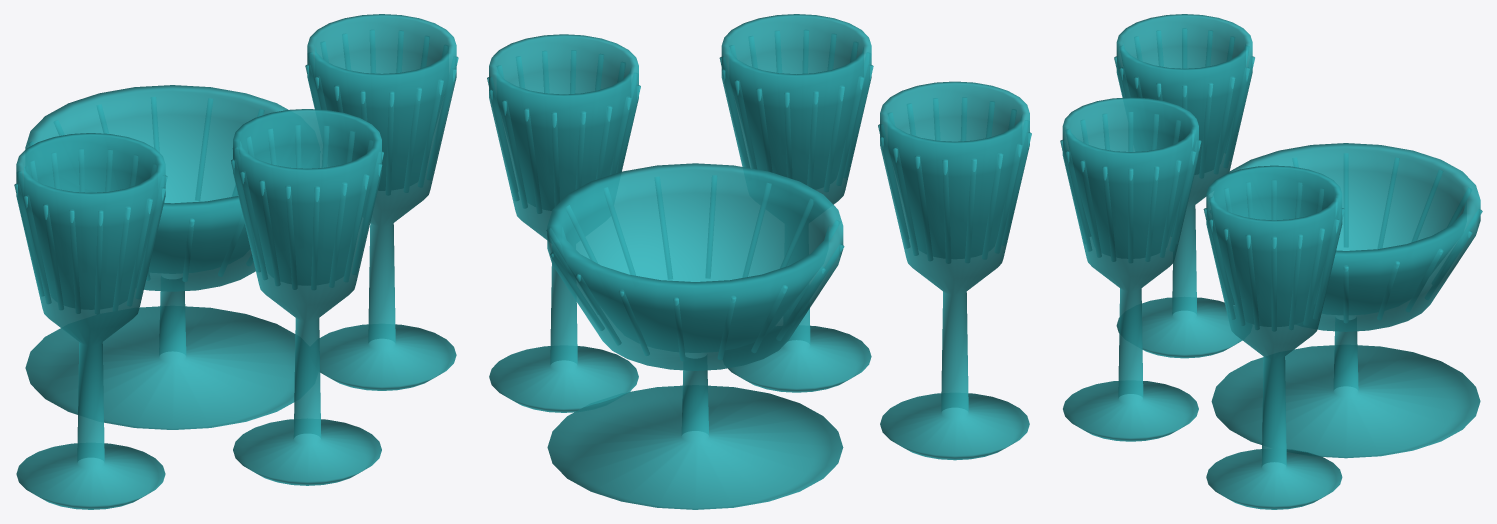
3 views of the same model, side by side, from view 1: azimuth 30°, elevation 25°; view 2: azimuth 150°, elevation 25°; view 3: azimuth 270°, elevation 25° (orthographic). The views are drawn at different scales.
Parts seen in each view (by area): view 1: TI008 / faceted cut-glass bowl and stem.003, TI008 / faceted cut-glass bowl and stem, TI008 / faceted cut-glass bowl and stem.001, TI008 / faceted cut-glass bowl and stem.002, TI008 / cut crystal flute.014, TI008 / cut crystal flute.046, TI008 / cut crystal flute.030, TI008 / cut crystal flute.008, TI008 / cut crystal flute.024, TI008 / cut crystal flute.045, TI008 / cut crystal flute.013, TI008 / cut crystal flute.029 (+13 smaller); view 2: TI008 / faceted cut-glass bowl and stem.003, TI008 / faceted cut-glass bowl and stem, TI008 / faceted cut-glass bowl and stem.002, TI008 / faceted cut-glass bowl and stem.001, TI008 / cut crystal flute.034, TI008 / cut crystal flute.002, TI008 / cut crystal flute.024, TI008 / cut crystal flute.008, TI008 / cut crystal flute.003; view 3: TI008 / faceted cut-glass bowl and stem.003, TI008 / faceted cut-glass bowl and stem.002, TI008 / faceted cut-glass bowl and stem.001, TI008 / faceted cut-glass bowl and stem, TI008 / cut crystal flute.029, TI008 / cut crystal flute.003, TI008 / cut crystal flute.035, TI008 / cut crystal flute.045, TI008 / cut crystal flute.019, TI008 / cut crystal flute.018, TI008 / cut crystal flute.034, TI008 / cut crystal flute.030 (+9 smaller).
Part boxes in pixels (bbox=[...]): TI008 / faceted cut-glass bowl and stem.003: bbox=[25, 85, 295, 429]; TI008 / faceted cut-glass bowl and stem: bbox=[16, 133, 165, 509]; TI008 / faceted cut-glass bowl and stem.001: bbox=[233, 109, 381, 485]; TI008 / faceted cut-glass bowl and stem.002: bbox=[307, 14, 456, 390]; TI008 / cut crystal flute.014: bbox=[135, 187, 165, 298]; TI008 / cut crystal flute.046: bbox=[426, 68, 456, 179]; TI008 / cut crystal flute.030: bbox=[352, 163, 382, 274]; TI008 / cut crystal flute.008: bbox=[23, 195, 51, 303]; TI008 / cut crystal flute.024: bbox=[240, 171, 267, 279]; TI008 / cut crystal flute.045: bbox=[418, 79, 443, 187]; TI008 / cut crystal flute.013: bbox=[127, 198, 152, 306]; TI008 / cut crystal flute.029: bbox=[343, 174, 369, 281]; TI008 / faceted cut-glass bowl and stem.003: bbox=[547, 163, 843, 509]; TI008 / faceted cut-glass bowl and stem: bbox=[880, 81, 1029, 460]; TI008 / faceted cut-glass bowl and stem.002: bbox=[489, 34, 638, 412]; TI008 / faceted cut-glass bowl and stem.001: bbox=[721, 14, 871, 392]; TI008 / cut crystal flute.034: bbox=[489, 89, 519, 200]; TI008 / cut crystal flute.002: bbox=[880, 136, 909, 248]; TI008 / cut crystal flute.024: bbox=[836, 76, 864, 185]; TI008 / cut crystal flute.008: bbox=[995, 144, 1022, 253]; TI008 / cut crystal flute.003: bbox=[893, 147, 918, 255]; TI008 / faceted cut-glass bowl and stem.003: bbox=[1211, 143, 1480, 458]; TI008 / faceted cut-glass bowl and stem.002: bbox=[1206, 165, 1342, 509]; TI008 / faceted cut-glass bowl and stem.001: bbox=[1062, 97, 1198, 441]; TI008 / faceted cut-glass bowl and stem: bbox=[1116, 14, 1252, 358]; TI008 / cut crystal flute.029: bbox=[1065, 150, 1091, 251]; TI008 / cut crystal flute.003: bbox=[1223, 67, 1249, 167]; TI008 / cut crystal flute.035: bbox=[1313, 219, 1339, 319]; TI008 / cut crystal flute.045: bbox=[1209, 219, 1235, 319]; TI008 / cut crystal flute.019: bbox=[1169, 150, 1196, 251]; TI008 / cut crystal flute.018: bbox=[1160, 160, 1181, 257]; TI008 / cut crystal flute.034: bbox=[1303, 228, 1324, 325]; TI008 / cut crystal flute.030: bbox=[1080, 160, 1101, 257].
Bounding box in the file's own units: 2.79 × 1.8 × 2.36.
